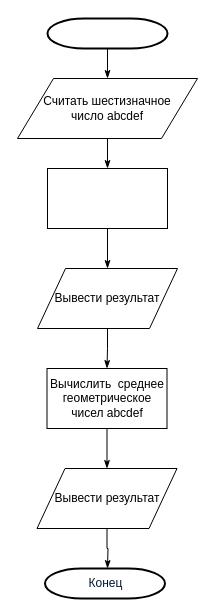
The diagram is 215 pixels wide and 616 high, and some of its shapes have lost their labels. The centre of each missing label's shape, as x and y in pixels:
"Вычислить среднее арифметическое чисел abcdef" goes at [107,198].
"Начало" goes at [107,33].
